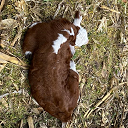vaca: (19, 9, 101, 124)
